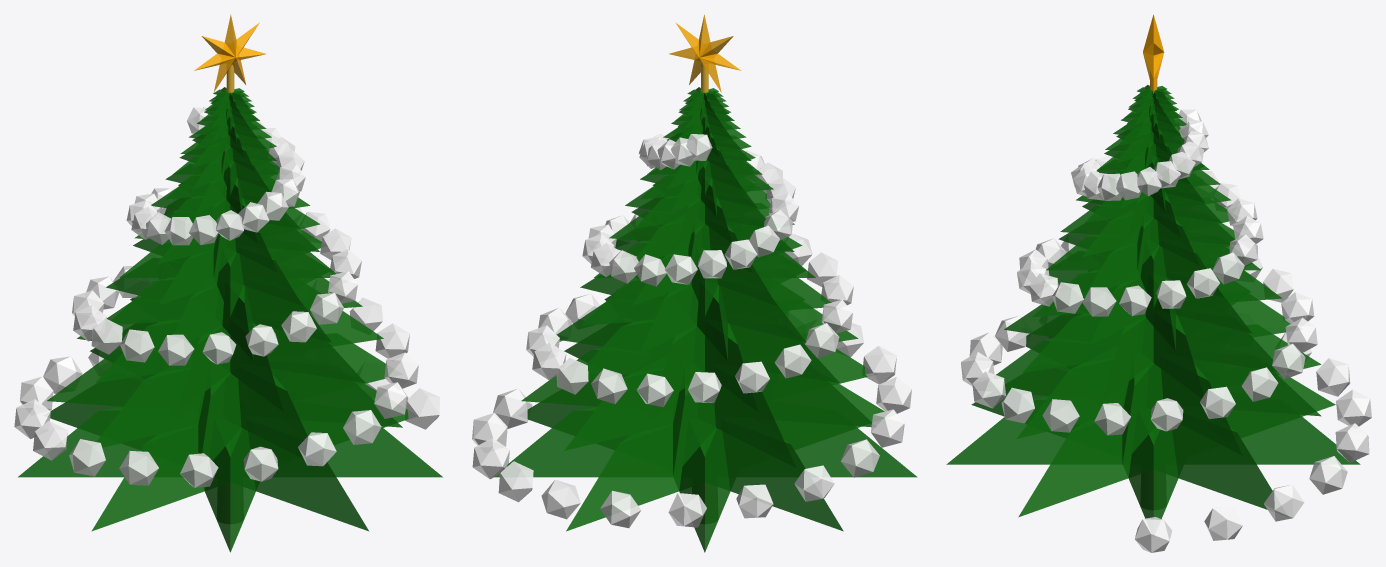
Rendered from fractaltreed.glb.
The picture shows the model from 3 angles, left to right: view 1: azimuth 30°, elevation 25°; view 2: azimuth 150°, elevation 25°; view 3: azimuth 270°, elevation 25°; orthographic projection. The views are drawn at different scales.
Size of the model in its own units: 10.02 by 12.34 by 9.7.
